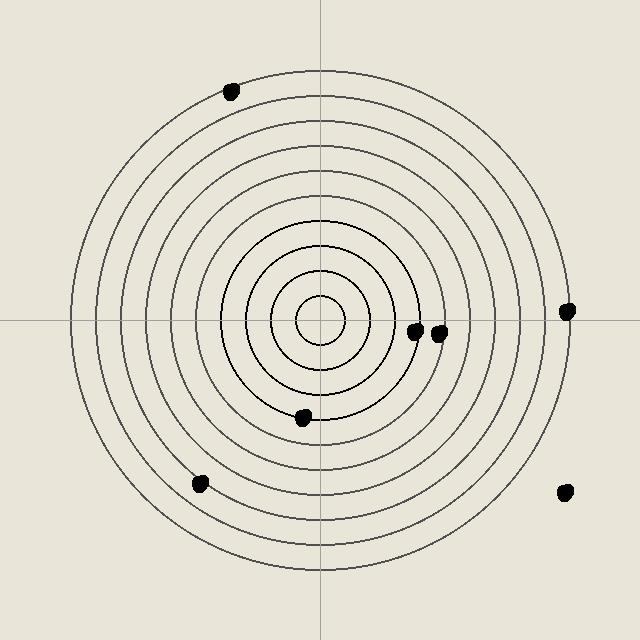random_scatter: (292, 407, 312, 427), (556, 301, 576, 321), (554, 482, 574, 502), (428, 323, 448, 343), (189, 473, 209, 493), (404, 321, 424, 341), (220, 81, 240, 101)
